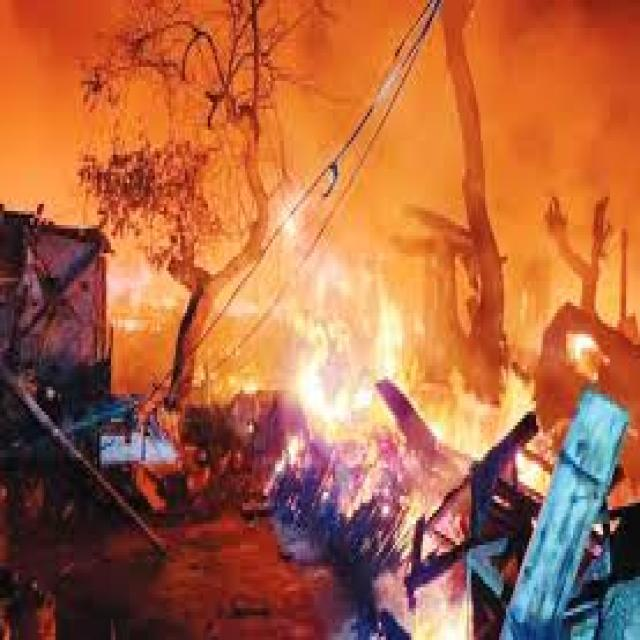Fire: (283, 281, 393, 419)
Smoke: (295, 0, 640, 288)
